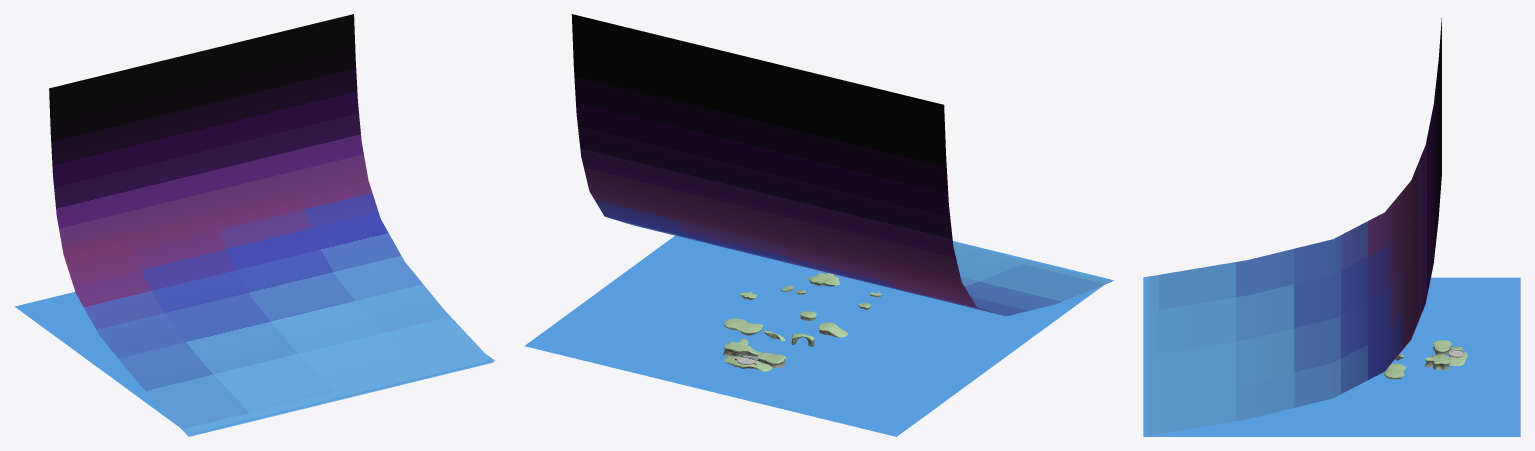
Rendered from art.glb.
3 renders of one model, left to right at view 1: azimuth 30°, elevation 25°; view 2: azimuth 150°, elevation 25°; view 3: azimuth 270°, elevation 25°, orthographic. The views are drawn at different scales.
Visible parts, largest first — view 1: sky, sea; view 2: sky, sea; view 3: sky, sea.
Part boxes in pixels (x1,y1,x2,y2): sky: (49, 14, 493, 436); sea: (14, 292, 494, 435); sky: (571, 14, 1114, 316); sea: (524, 235, 1110, 436); sky: (1143, 17, 1441, 436); sea: (1144, 277, 1520, 436).
Bounding box in the file's own units: 504 × 388 × 501.
6 materials, 5 textured.
